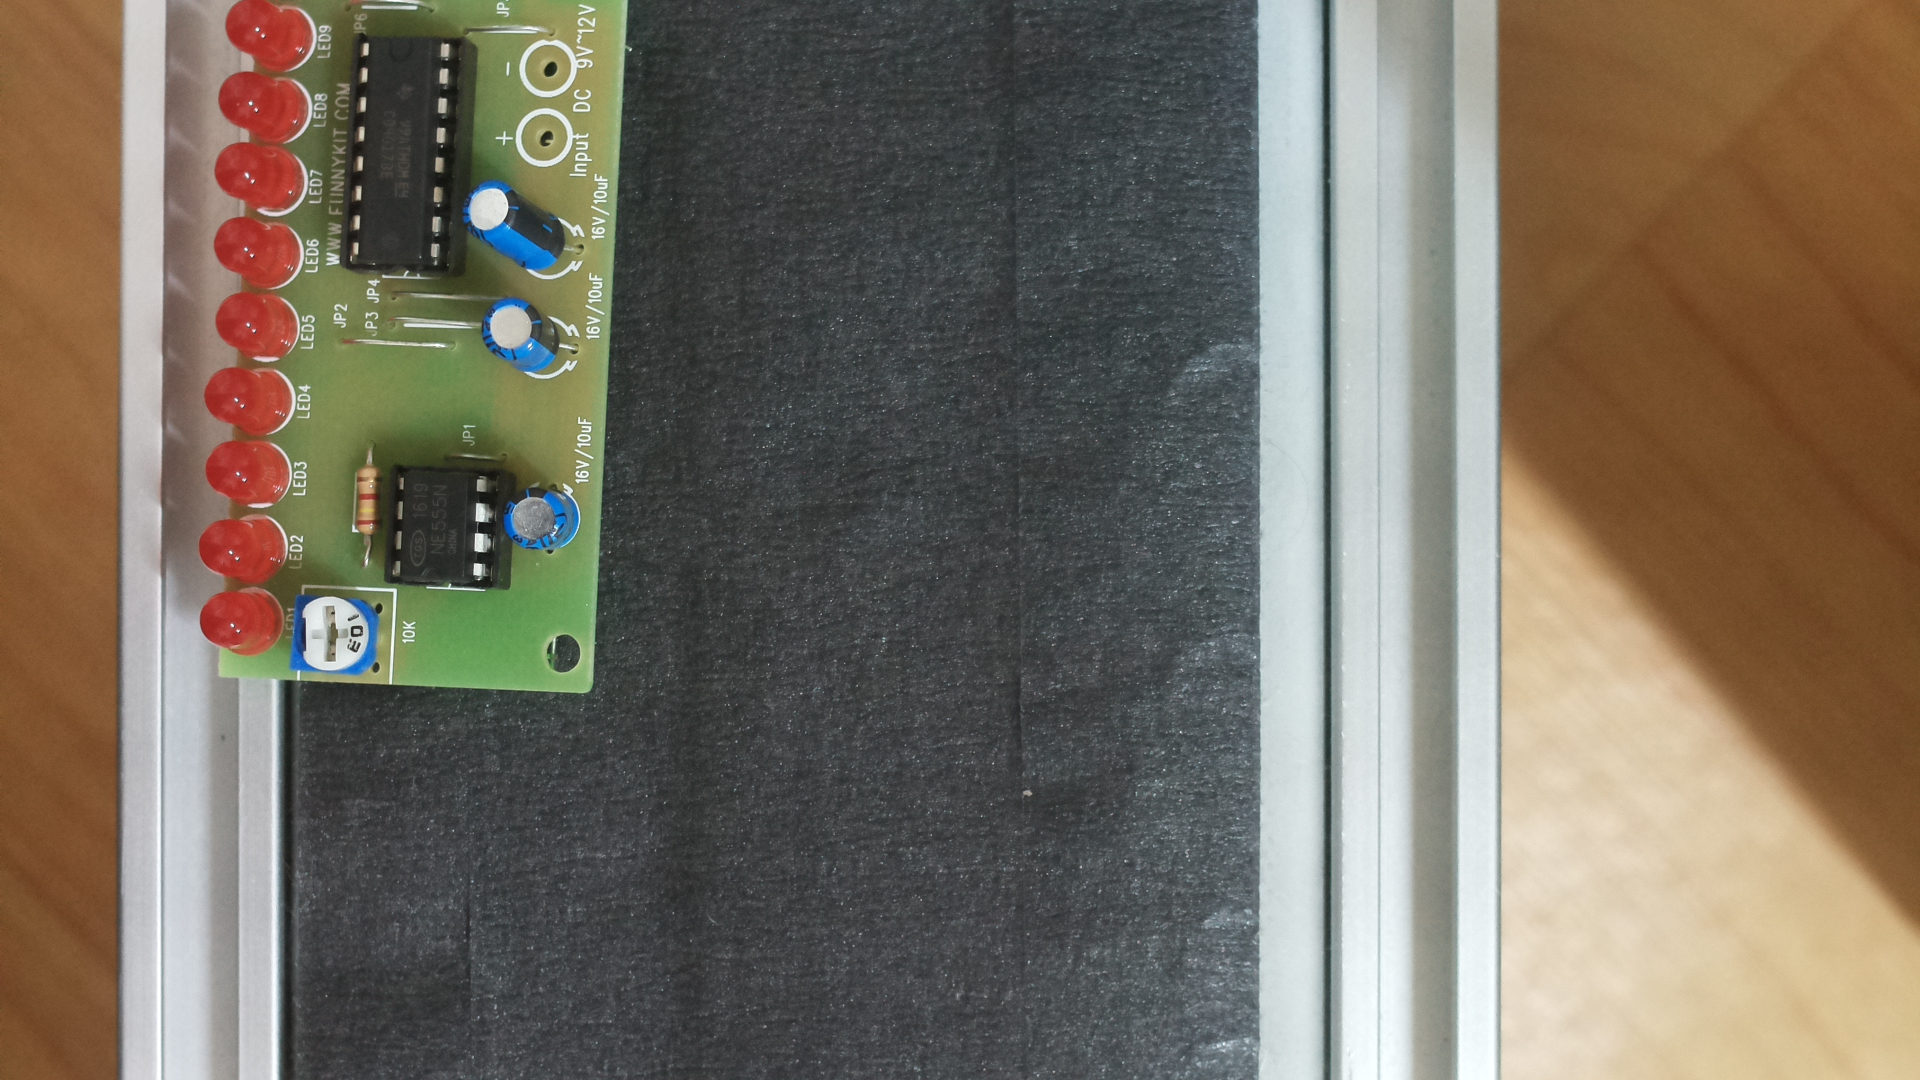B_Normal: (196, 20, 642, 703)
